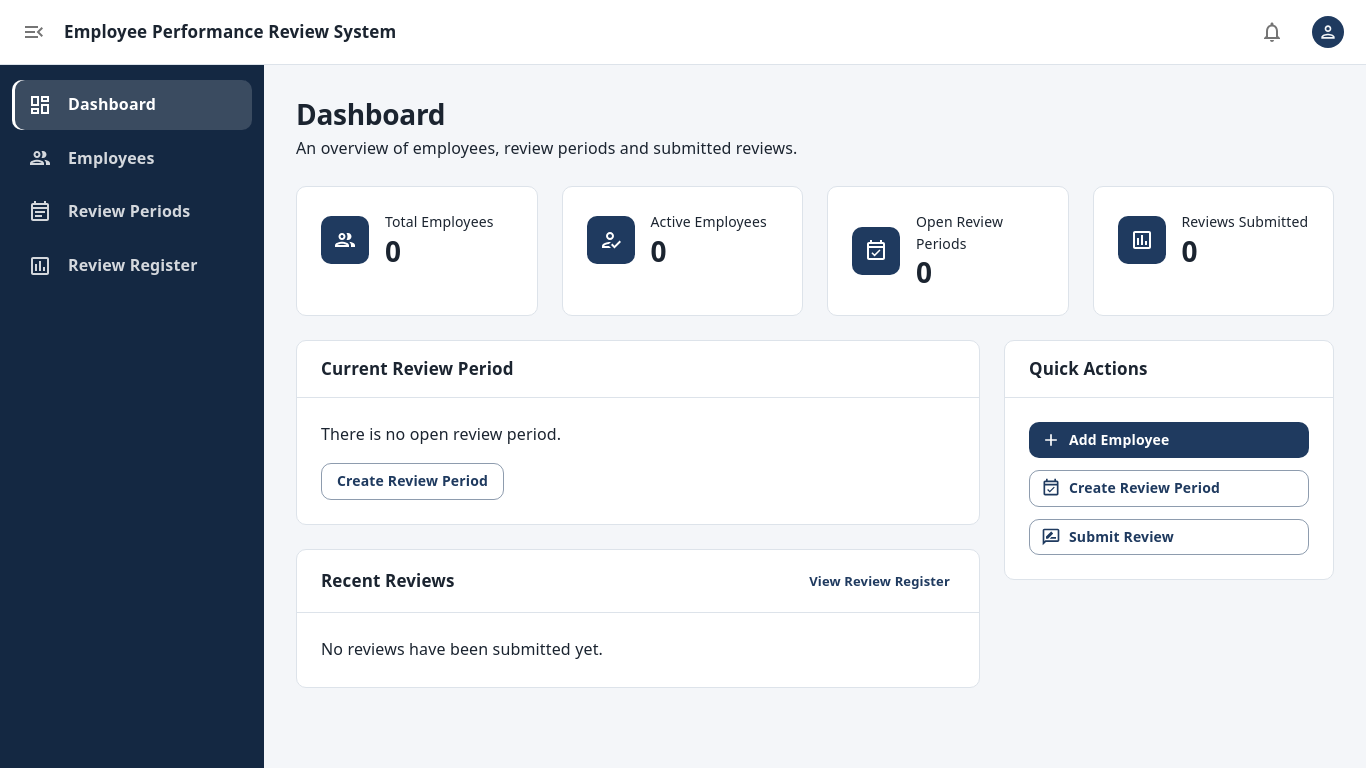
it: application routes › moves between pages from the sidebar
The image size is (1366, 768).
Click the link "Review Register" at {"x": 113, "y": 266}, box [28,254,198,278]
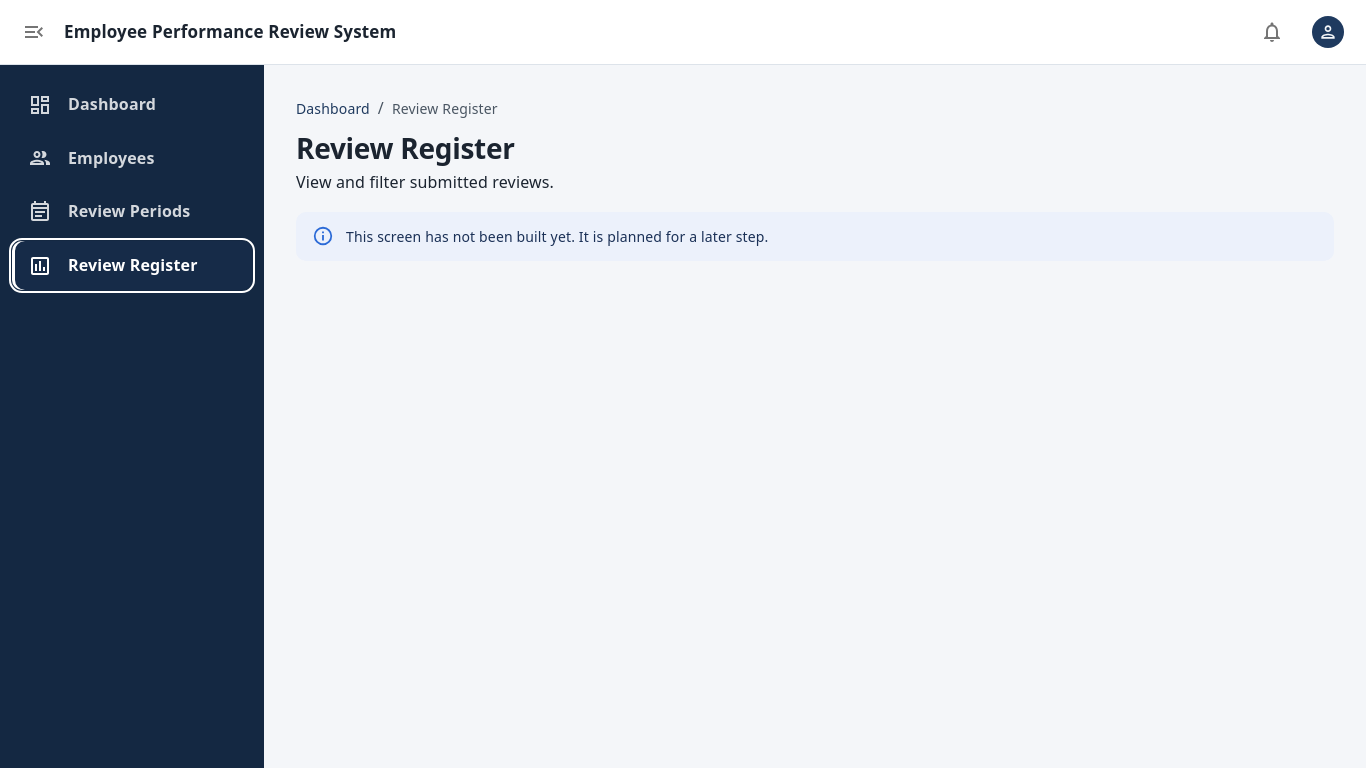
Now the heading "Review Register" is shown, box [296,129,515,167]
